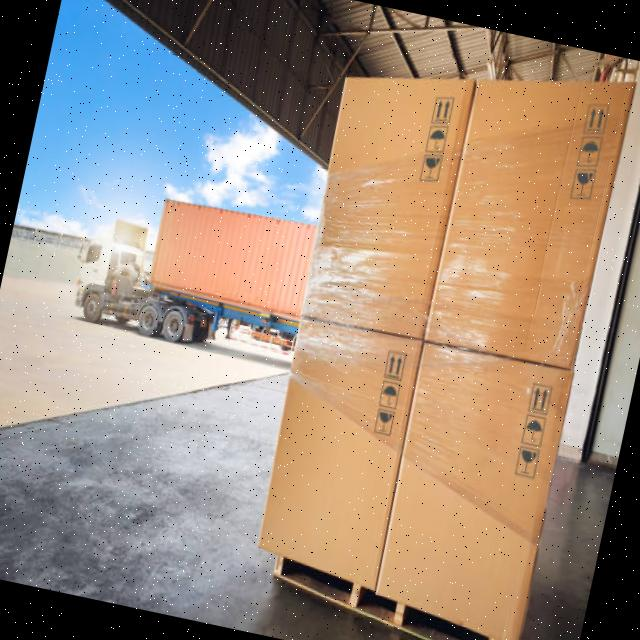Wooden-Pallets: (266, 543, 500, 640)
